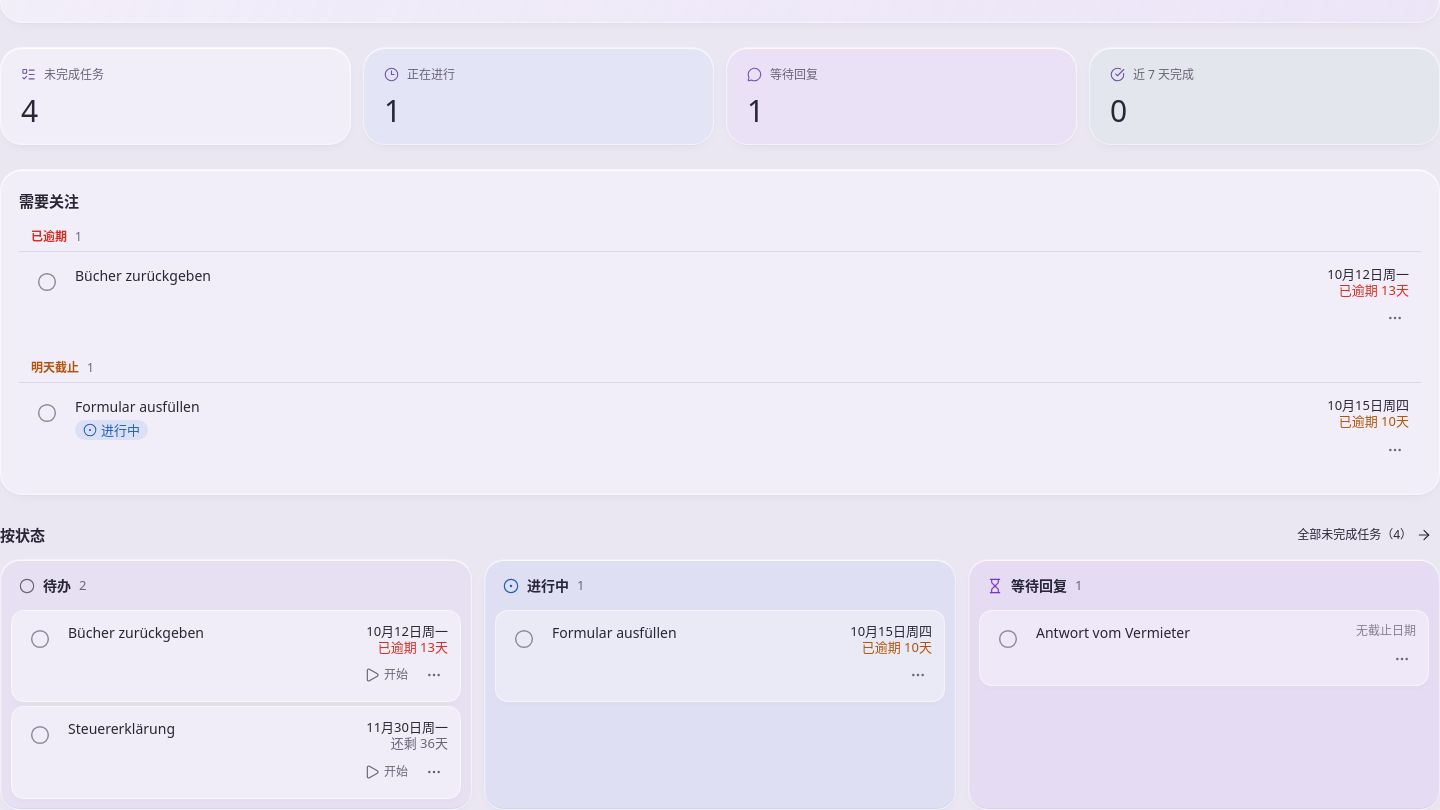
Test: DashboardPage › offers deleting a task right in its status menu
(page scrolled)
What coordinates should you click on to do the following:
click the button named "状态：待办（点击修改）" below "还剩 36天"
I would click on:
 (434, 772)
Its box is [420,758,448,786].
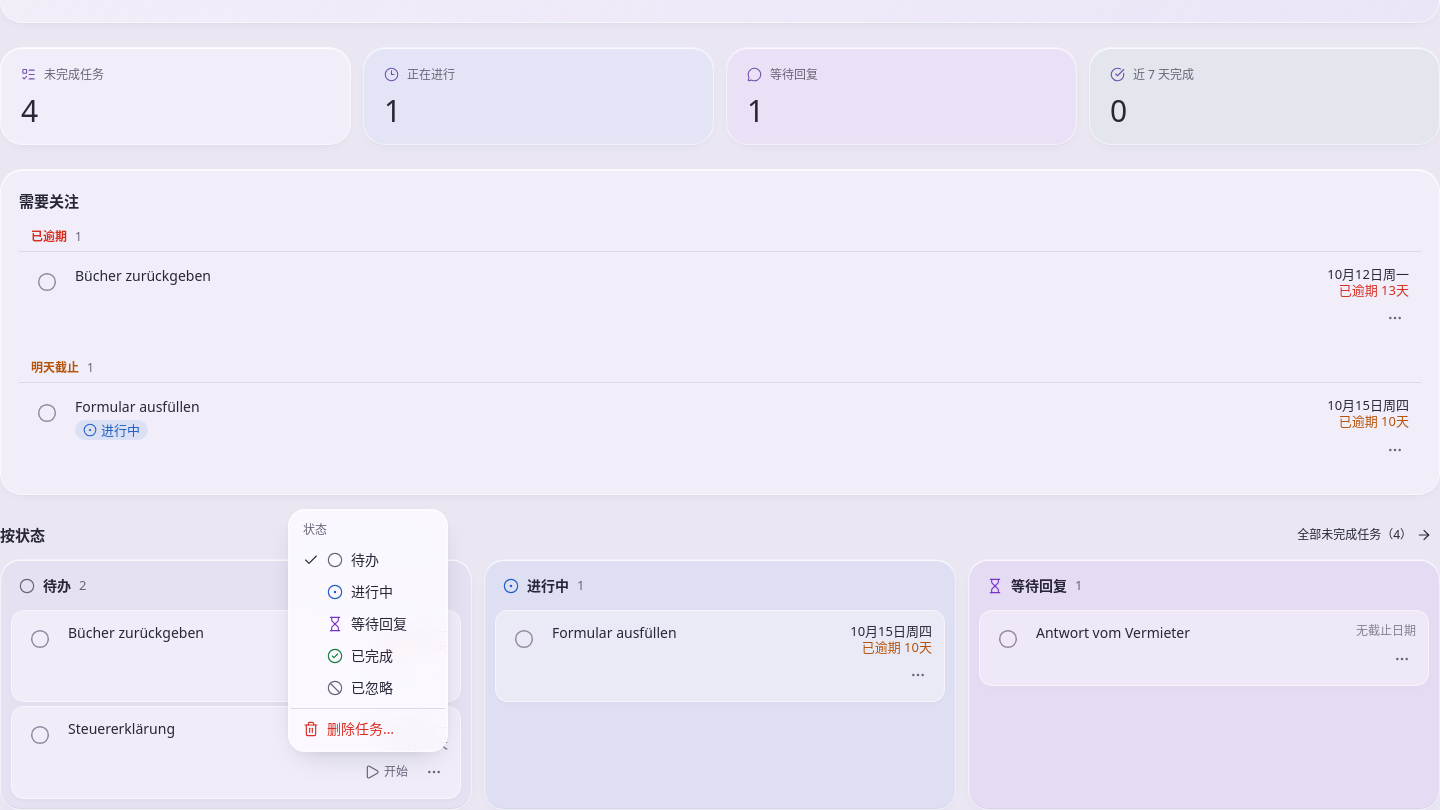
What coordinates should you click on to do the following:
click the menu item "删除任务…"
I would click on:
 (349, 728)
Its box is [303,719,394,738].
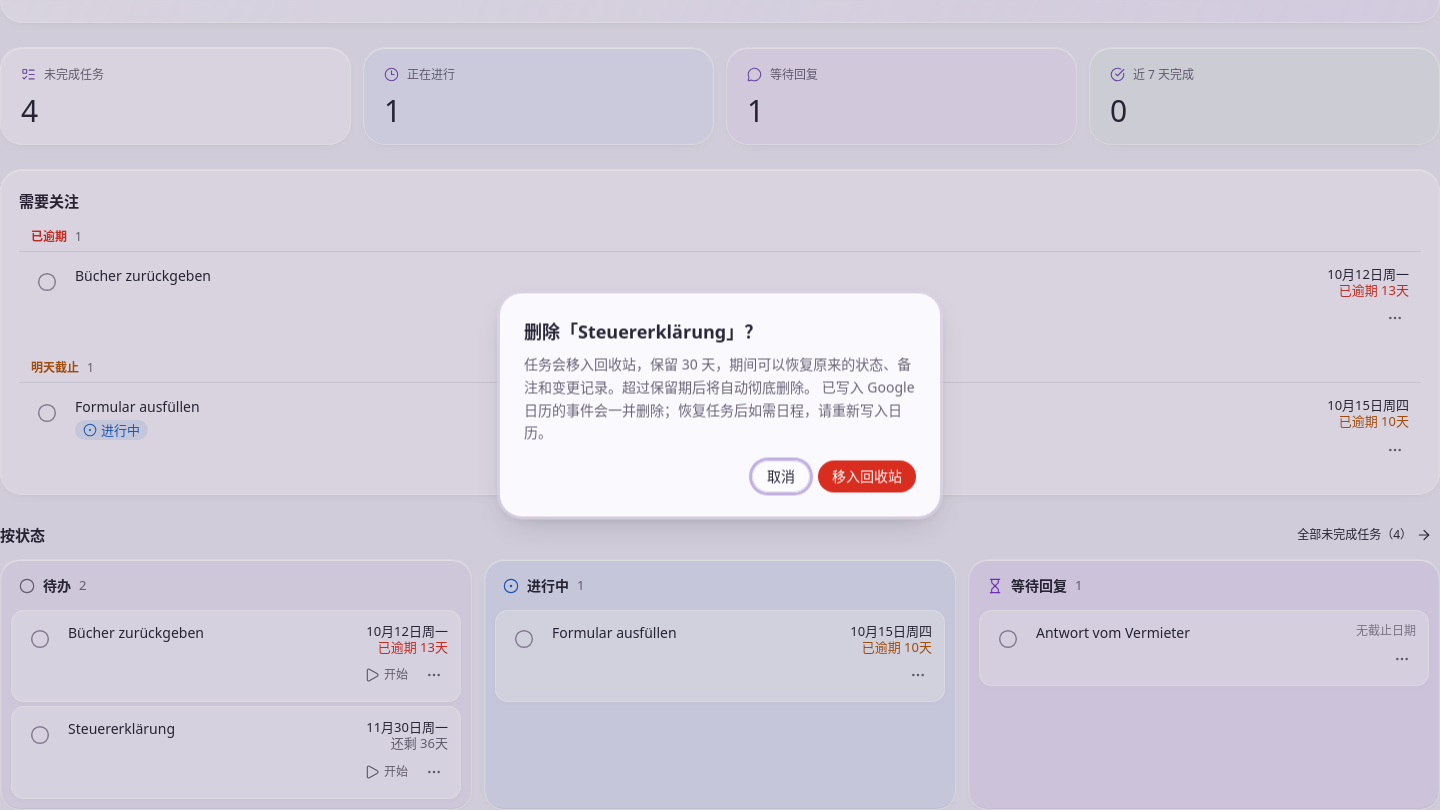
expect the dialog "删除「Steuererklärung」？" is shown: met, box [496,290,944,520]
